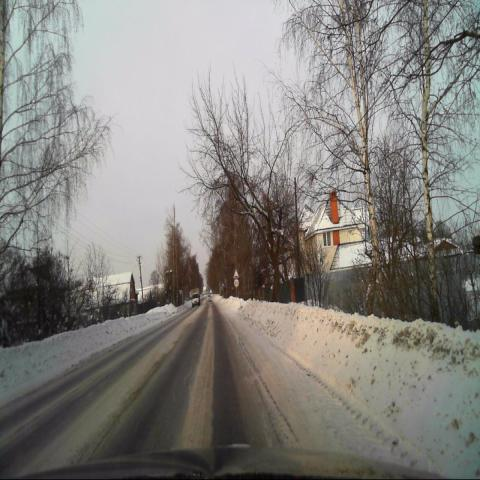1_17: (233, 267, 239, 278)
